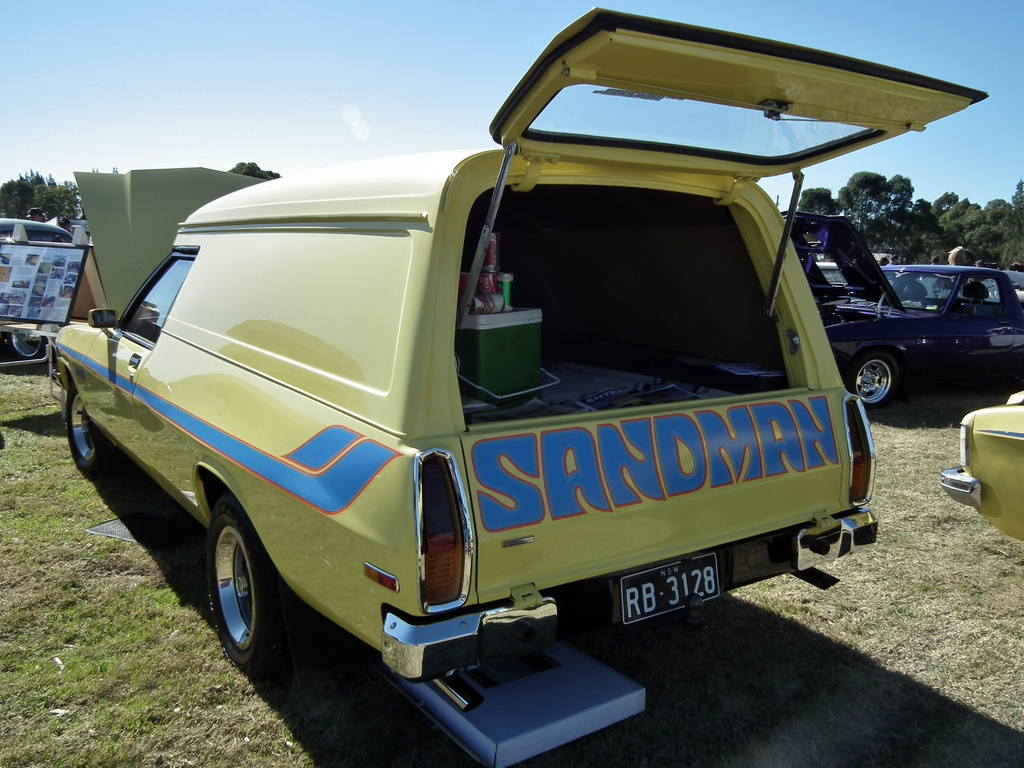Car: (0, 1, 1023, 707)
